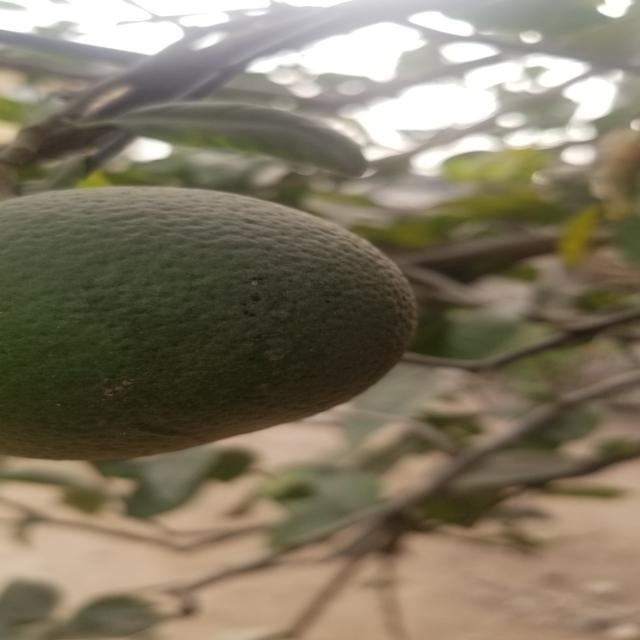agrume: (0, 190, 421, 455)
